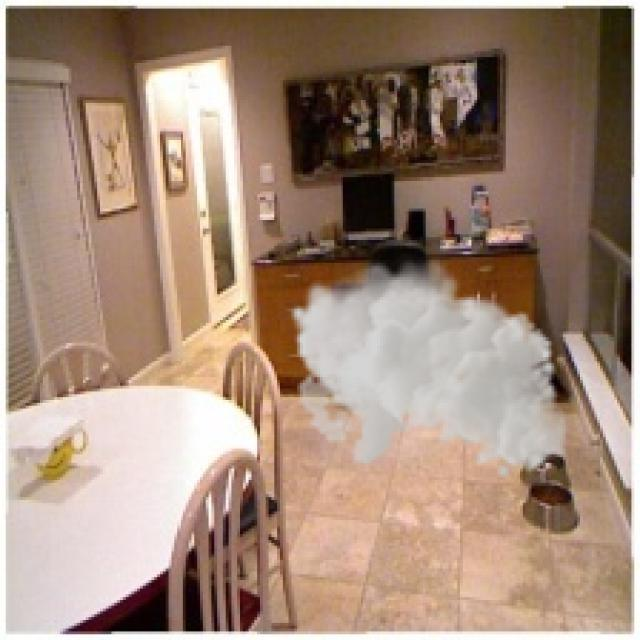Smoke: (288, 252, 568, 479)
